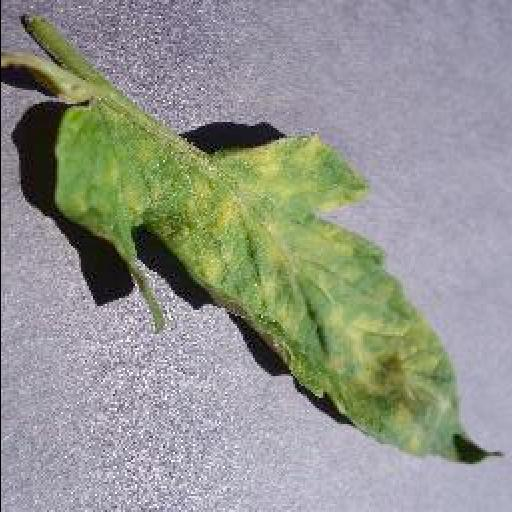disease_tomato: (55, 100, 501, 466)
